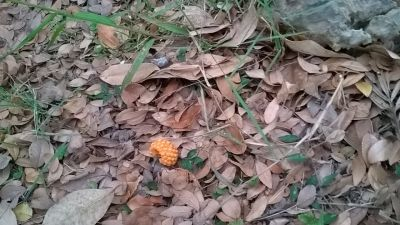eggs: (149, 138, 179, 166)
